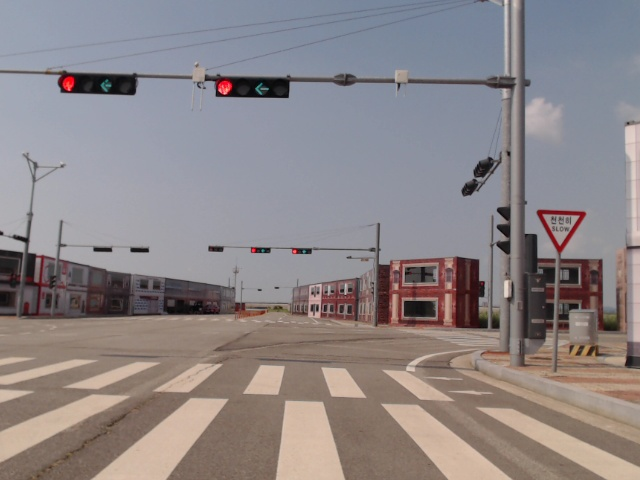left_green_4: (61, 74, 136, 95), (217, 78, 290, 99)
